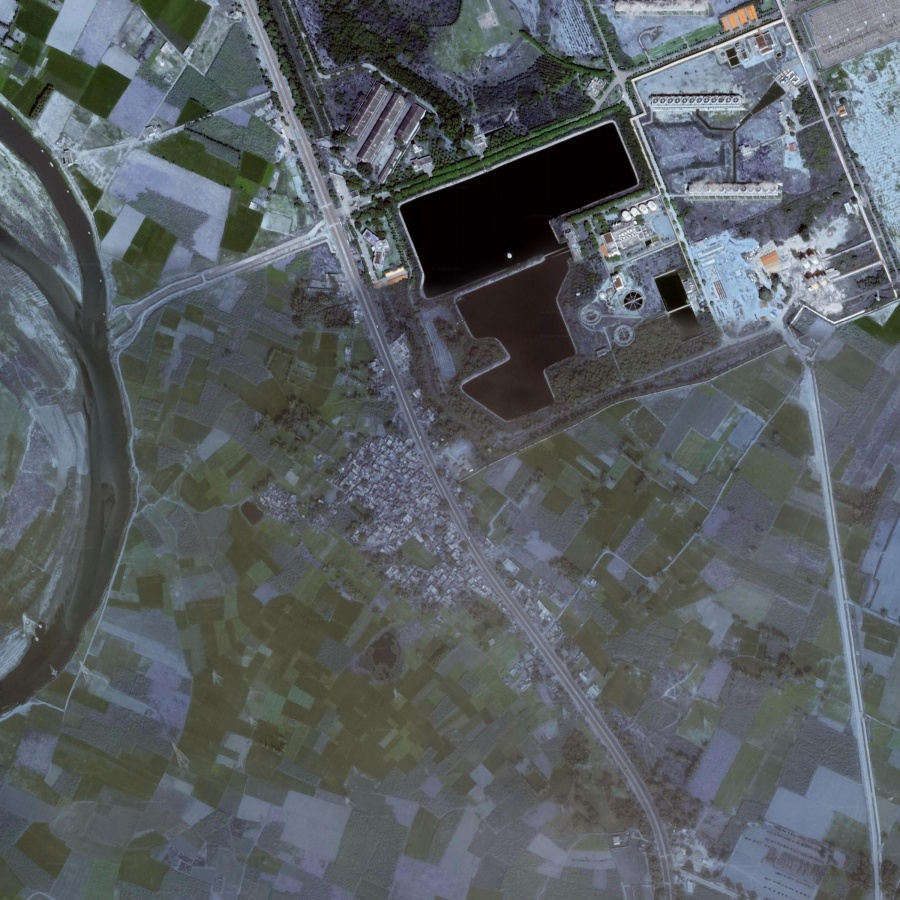PowerPlant: (379, 113, 649, 341)
